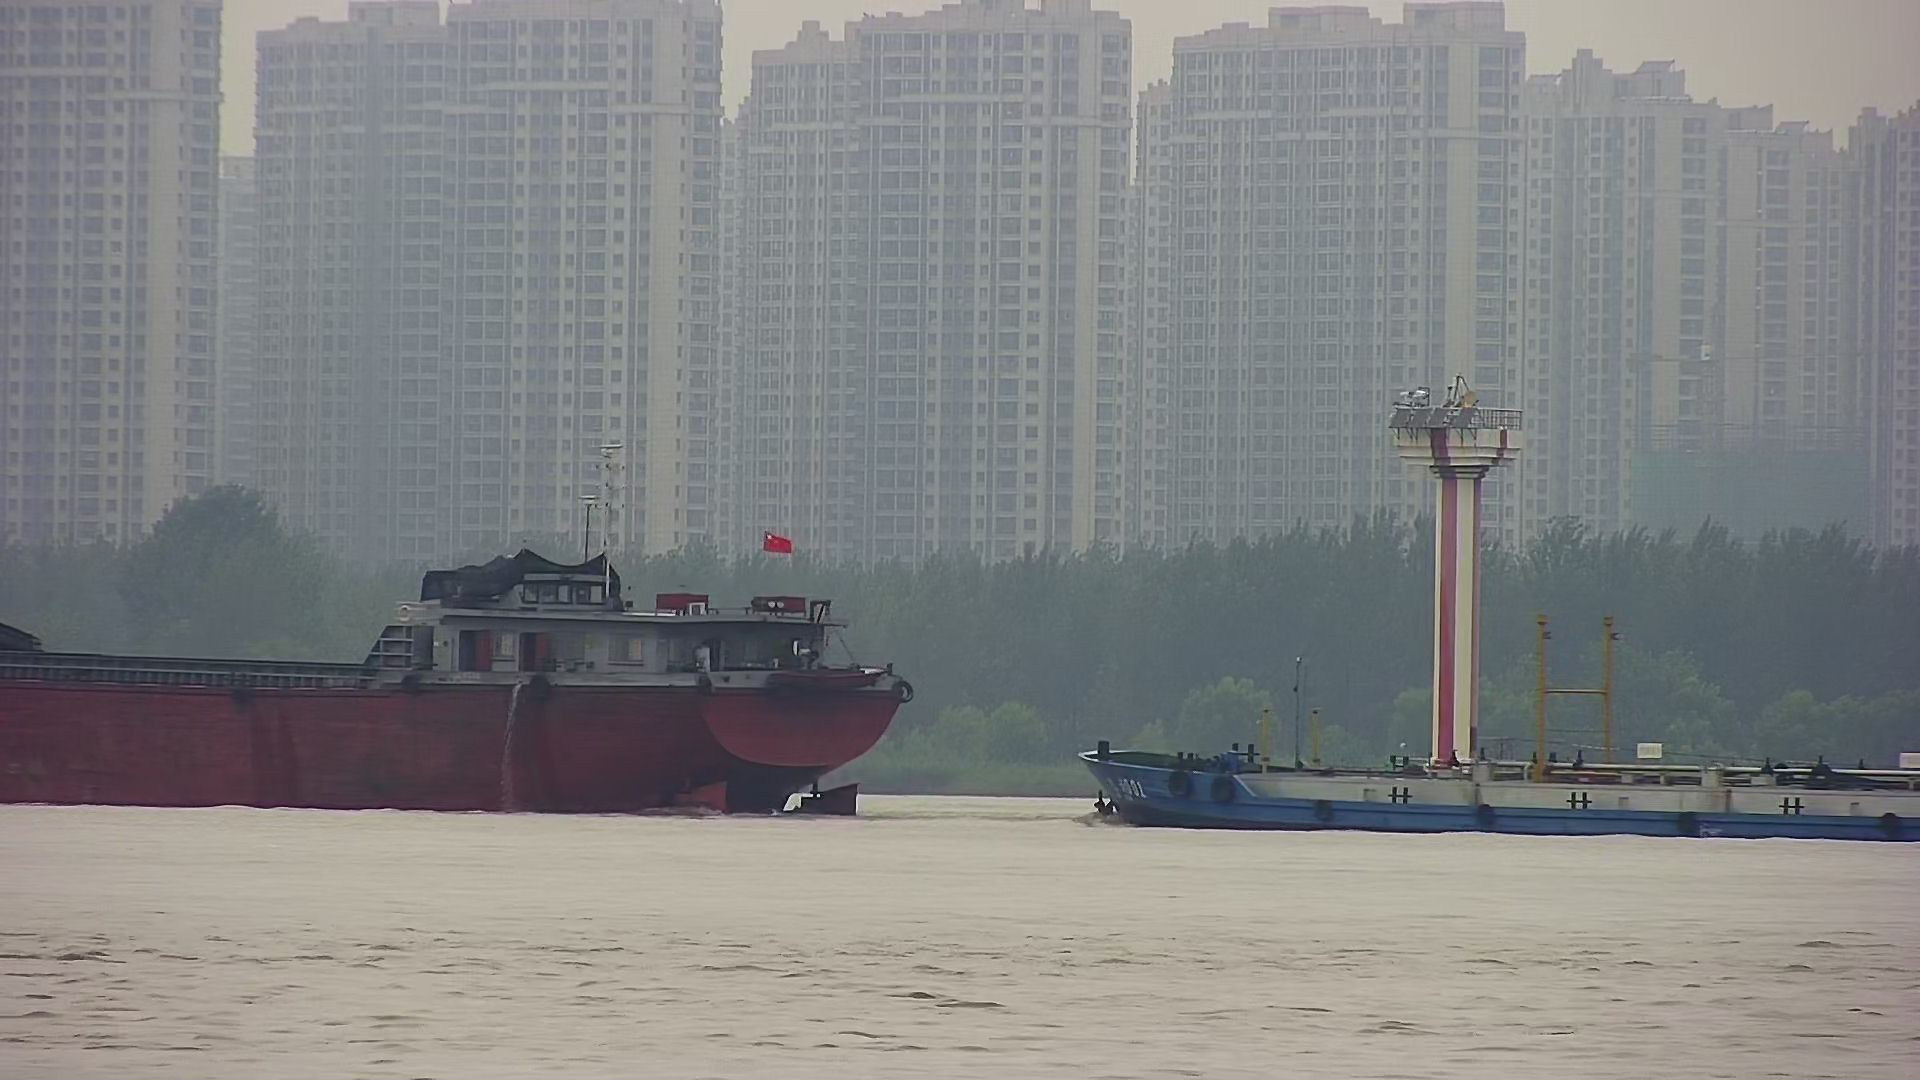platform: (1395, 365, 1524, 868)
ship: (1, 456, 916, 822), (1080, 600, 1920, 849)
